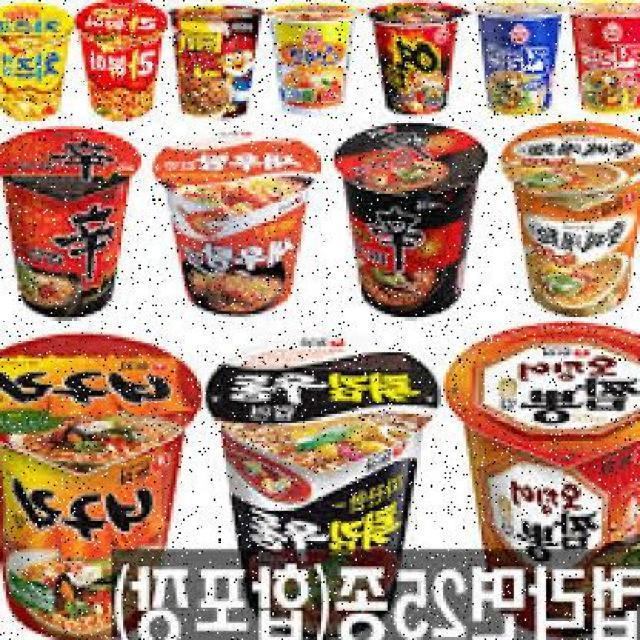Miscellaneous: (210, 322, 438, 630), (0, 320, 197, 637), (455, 314, 640, 640), (146, 118, 325, 314), (332, 114, 494, 314), (504, 114, 640, 314), (0, 120, 135, 302), (160, 0, 258, 125), (466, 0, 572, 115), (364, 0, 462, 120), (266, 0, 357, 125), (77, 0, 163, 120), (1, 0, 74, 114), (575, 0, 639, 112)
